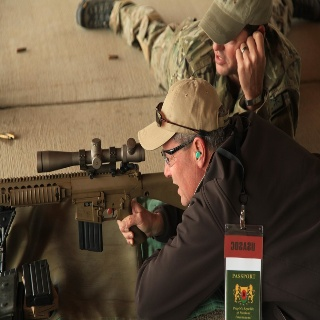rifle: (1, 136, 189, 252)
